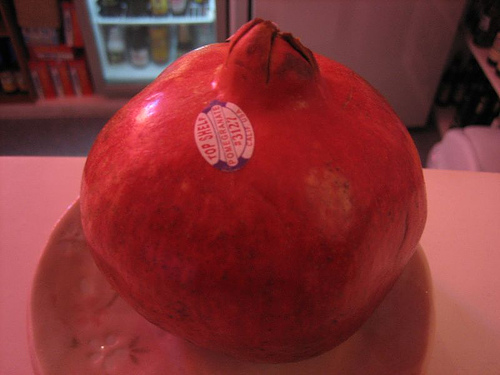pomogranate: (79, 17, 427, 364)
